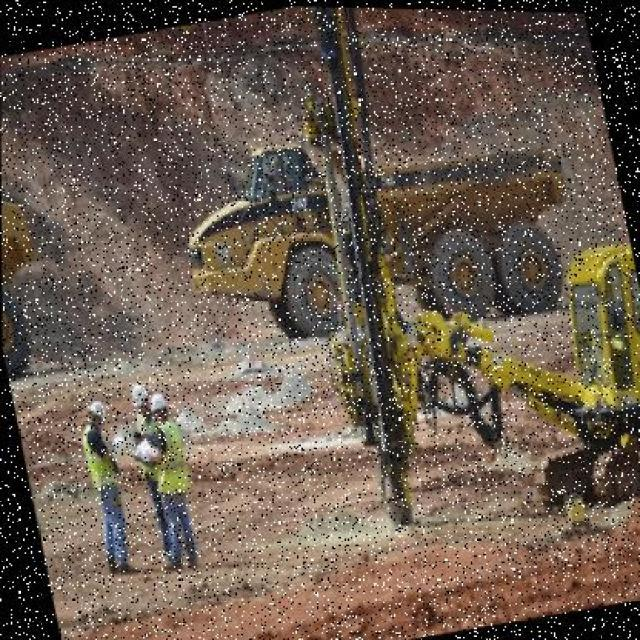helmet: (79, 391, 110, 433), (126, 375, 151, 415), (145, 388, 170, 422)
vest: (77, 417, 127, 501), (146, 414, 192, 502)
